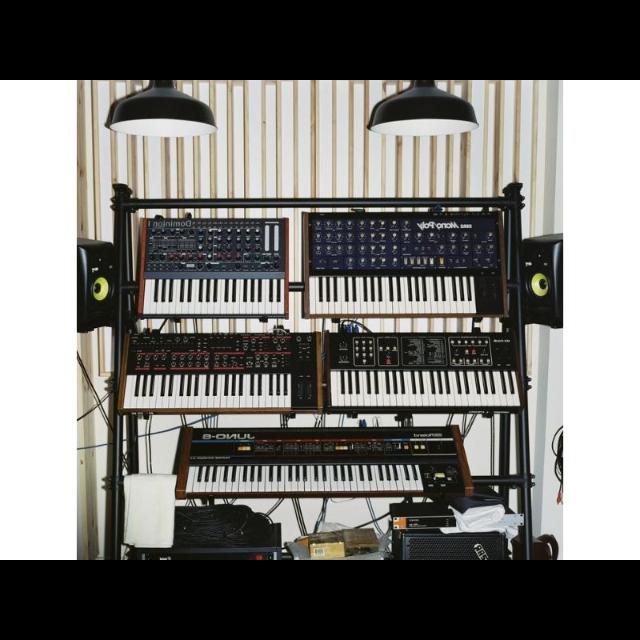Electronic-Keyboard: (166, 420, 476, 496), (295, 207, 493, 321), (320, 329, 520, 409), (137, 206, 285, 314), (123, 334, 289, 408)
